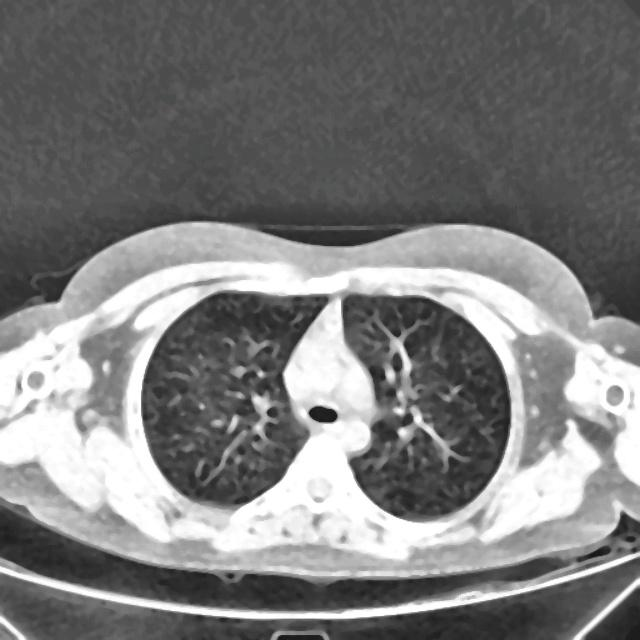covid: (0, 219, 639, 585)
